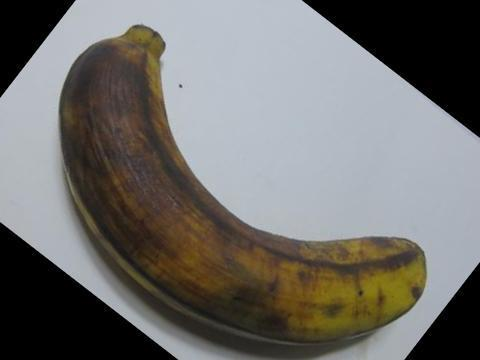overripe: (41, 17, 431, 359)
